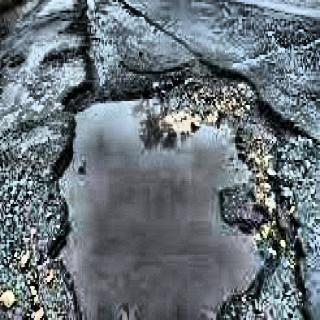pothole: (46, 69, 292, 320)
